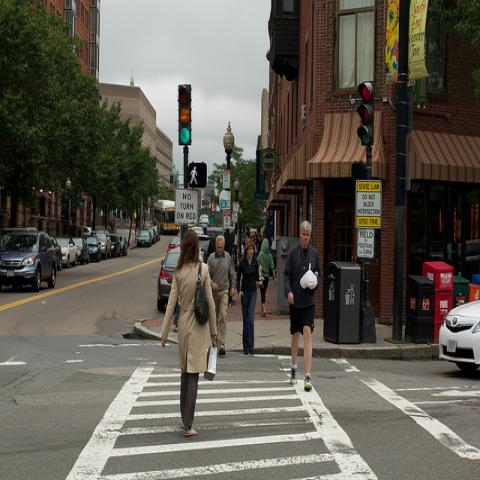bus: (153, 200, 180, 236)
car: (155, 245, 479, 365), (0, 231, 57, 293), (55, 236, 78, 269), (90, 230, 111, 260), (49, 235, 63, 271), (73, 236, 90, 265), (86, 235, 103, 264), (206, 225, 224, 250), (137, 229, 152, 247), (110, 234, 121, 258), (117, 234, 128, 256), (144, 227, 156, 245), (192, 226, 204, 235)
